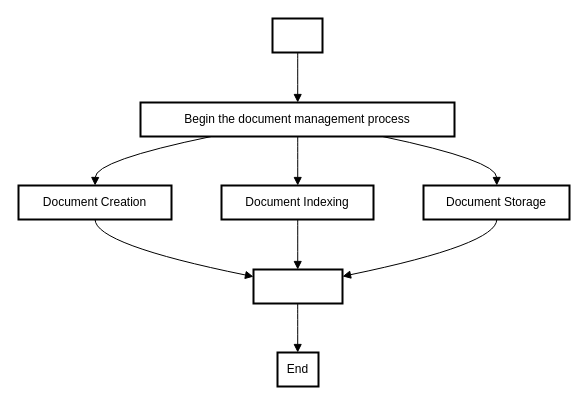
This 587x404 diagram has some shape labels left out. Each missing label, with the box of its shape:
Audit Trail: (252, 268, 343, 304)
Start: (271, 17, 323, 53)
